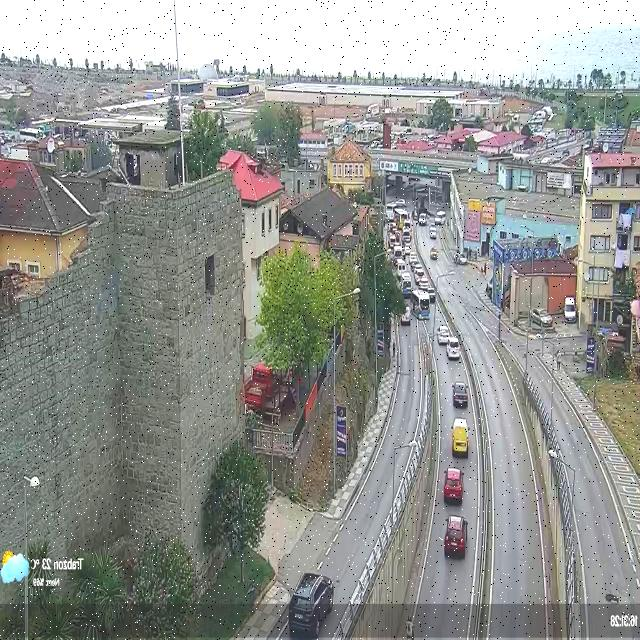car: (288, 568, 334, 634), (442, 514, 469, 560), (452, 419, 470, 459), (444, 468, 463, 505)
